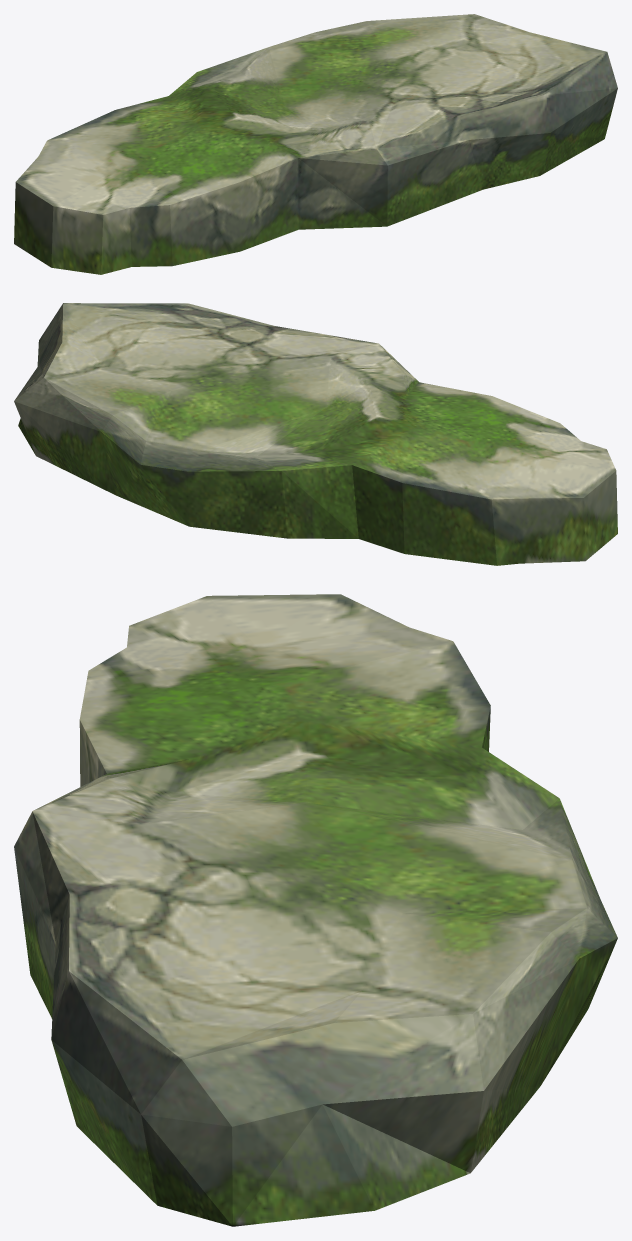
The model's file is 4006_Item_shitou_13.FBX.
3 views of the same model, one above another, from view 1: azimuth 30°, elevation 25°; view 2: azimuth 150°, elevation 25°; view 3: azimuth 270°, elevation 25° (orthographic). The views are drawn at different scales.
Visible parts, largest first — view 1: 4006_Item_shitou_13; view 2: 4006_Item_shitou_13; view 3: 4006_Item_shitou_13.
Boxes of the visible parts, x1,y1,x2,y2 form: 4006_Item_shitou_13: (14, 14, 617, 274); 4006_Item_shitou_13: (14, 303, 617, 565); 4006_Item_shitou_13: (14, 594, 617, 1226).
Size of the model in its own units: 92.9 by 13.95 by 44.78.
